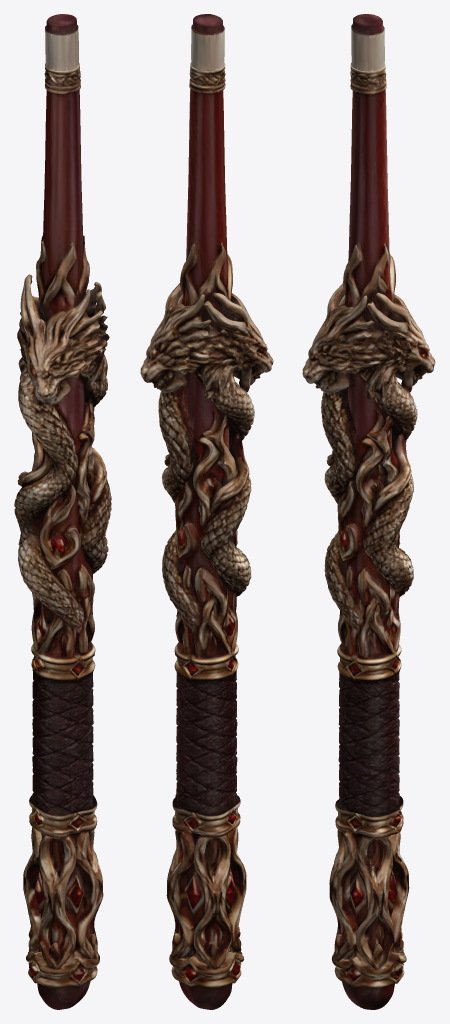
The model's file is 2k-cuestick-dragon.glb.
The picture shows the model from 3 angles, left to right: view 1: azimuth 30°, elevation 25°; view 2: azimuth 150°, elevation 25°; view 3: azimuth 330°, elevation 25°; orthographic projection.
Visible parts, largest first — view 1: tripo_node_8e7e0a90-5968-4551-98a3-d31ca68d5d97; view 2: tripo_node_8e7e0a90-5968-4551-98a3-d31ca68d5d97; view 3: tripo_node_8e7e0a90-5968-4551-98a3-d31ca68d5d97.
Part boxes in pixels (bbox=[...]): tripo_node_8e7e0a90-5968-4551-98a3-d31ca68d5d97: bbox=[14, 14, 111, 1009]; tripo_node_8e7e0a90-5968-4551-98a3-d31ca68d5d97: bbox=[140, 14, 273, 1009]; tripo_node_8e7e0a90-5968-4551-98a3-d31ca68d5d97: bbox=[302, 14, 435, 1009].
Size of the model in its own units: 0.0952 by 0.982 by 0.0872.
Materials: 1 (1 with a texture image).
